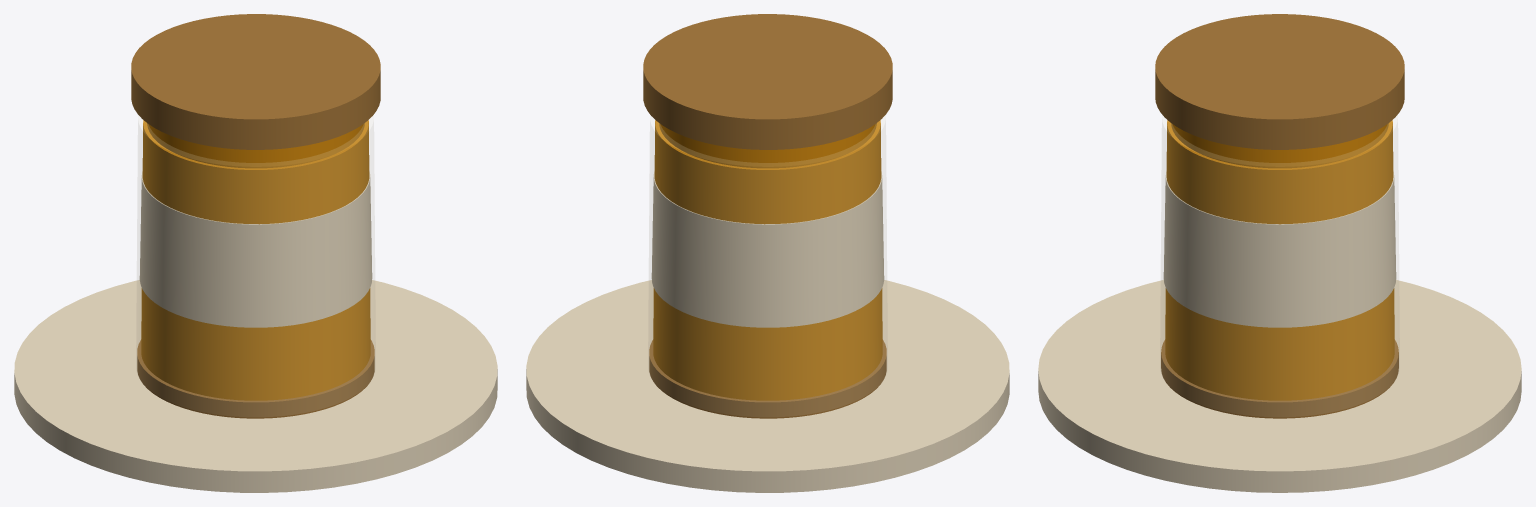
The model's file is honey-v1.glb.
3 renders of one model, left to right at view 1: azimuth 30°, elevation 25°; view 2: azimuth 150°, elevation 25°; view 3: azimuth 270°, elevation 25°, orthographic.
Parts seen in each view (by area): view 1: honey-concept; view 2: honey-concept; view 3: honey-concept.
Boxes of the visible parts, bbox=[...] form: honey-concept: bbox=[14, 14, 497, 492]; honey-concept: bbox=[526, 14, 1009, 492]; honey-concept: bbox=[1038, 14, 1521, 492].
Bounding box in the file's own units: 2.44 × 1.8 × 2.44.
